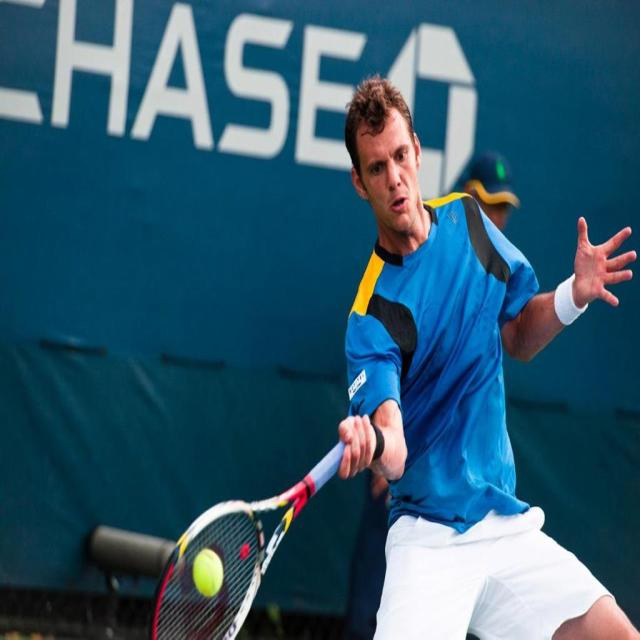Face: (361, 113, 424, 224)
